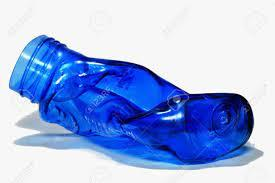plastic: (42, 36, 248, 154)
